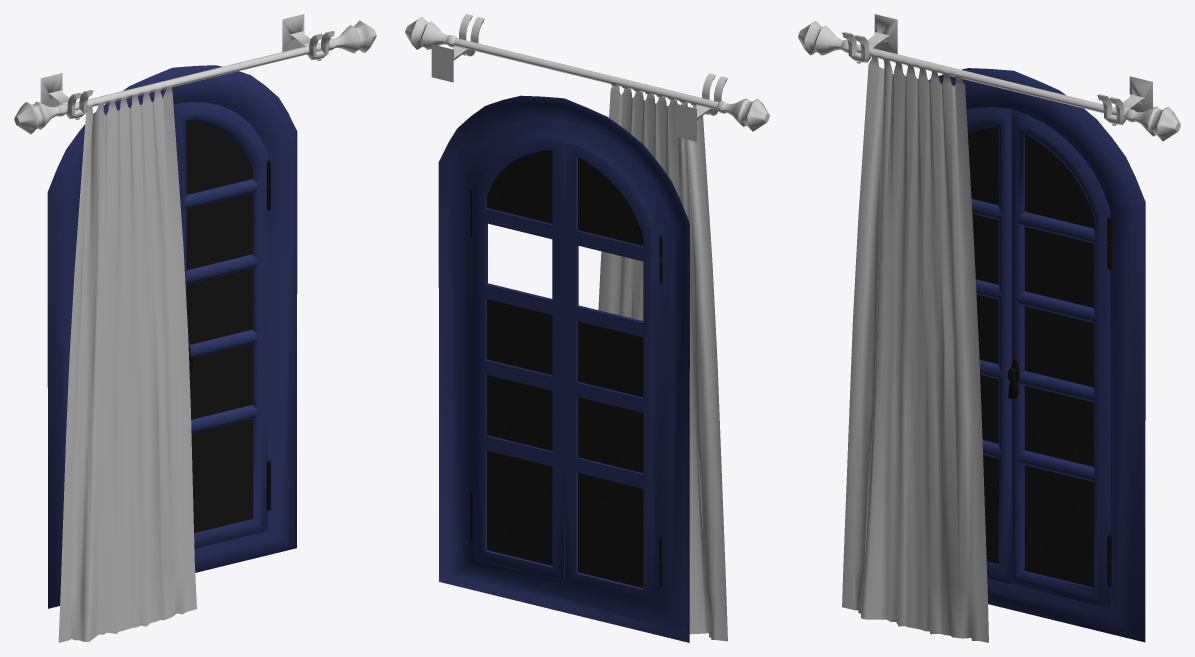
File: finestra_gran_cortina_correguda.FBX
The picture shows the model from 3 angles, left to right: view 1: azimuth 30°, elevation 25°; view 2: azimuth 150°, elevation 25°; view 3: azimuth 330°, elevation 25°; orthographic projection. The views are drawn at different scales.
Parts seen in each view (by area): view 1: barra_cortina_LP, LP_marc_finestra_esquerra, LP_vidres_finestres; view 2: LP_marc_finestra_esquerra, LP_vidres_finestres, barra_cortina_LP; view 3: barra_cortina_LP, LP_marc_finestra_esquerra, LP_vidres_finestres.
Boxes of the visible parts, x1=… form: barra_cortina_LP: x1=14, y1=14, x2=376, y2=642; LP_marc_finestra_esquerra: x1=47, y1=65, x2=297, y2=608; LP_vidres_finestres: x1=186, y1=121, x2=252, y2=533; LP_marc_finestra_esquerra: x1=438, y1=95, x2=689, y2=642; LP_vidres_finestres: x1=487, y1=150, x2=643, y2=587; barra_cortina_LP: x1=405, y1=14, x2=769, y2=641; barra_cortina_LP: x1=798, y1=14, x2=1180, y2=642; LP_marc_finestra_esquerra: x1=928, y1=68, x2=1145, y2=642; LP_vidres_finestres: x1=968, y1=127, x2=1093, y2=587.
Size of the model in its own units: 262 by 390 by 41.57.
